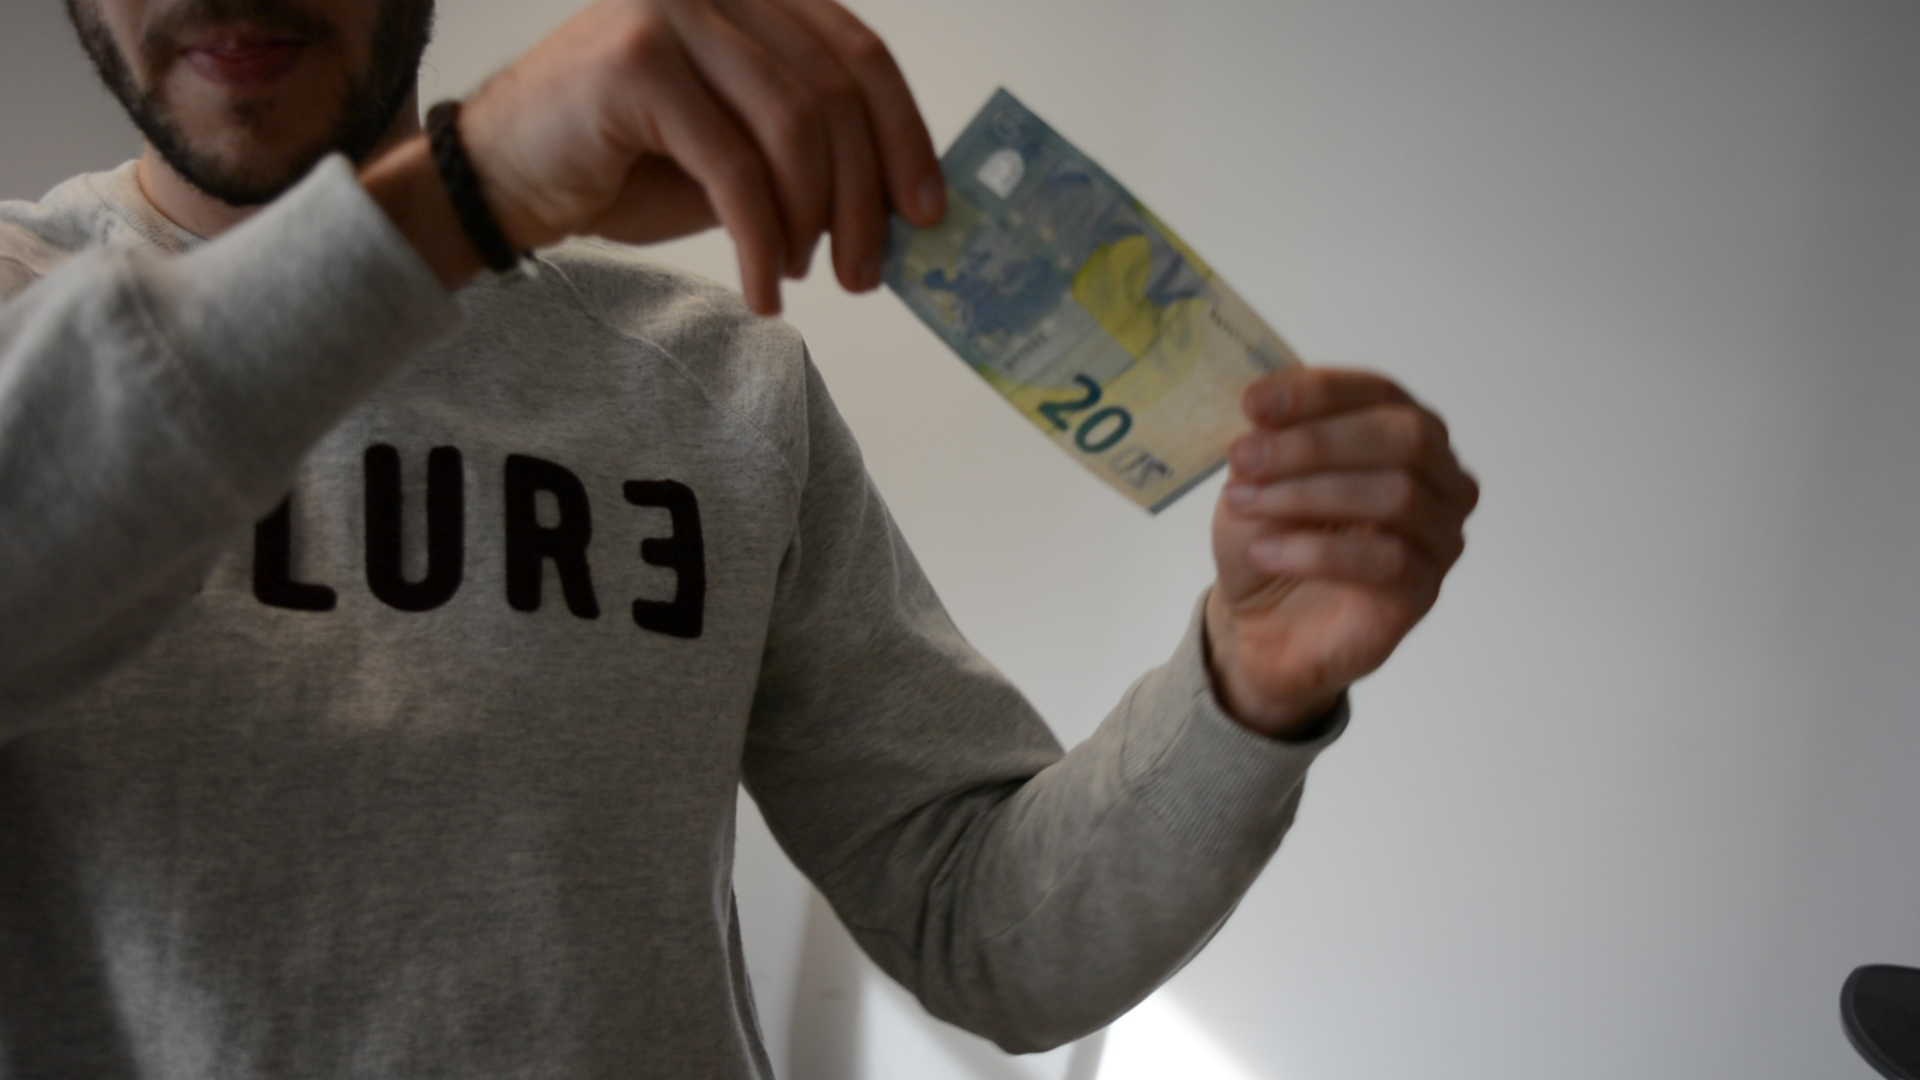billete: (878, 83, 1312, 520)
